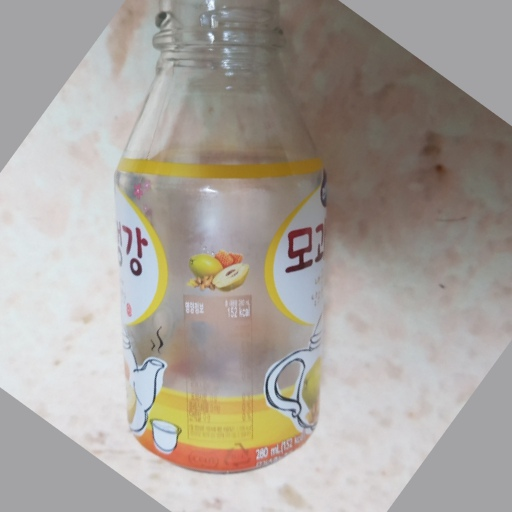Glass_4: (104, 2, 331, 476)
